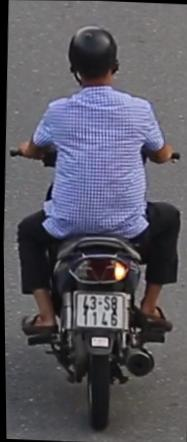LP: (69, 286, 128, 332)
helmet: (62, 21, 122, 96)
